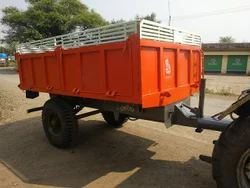wheel: (42, 101, 76, 146)
